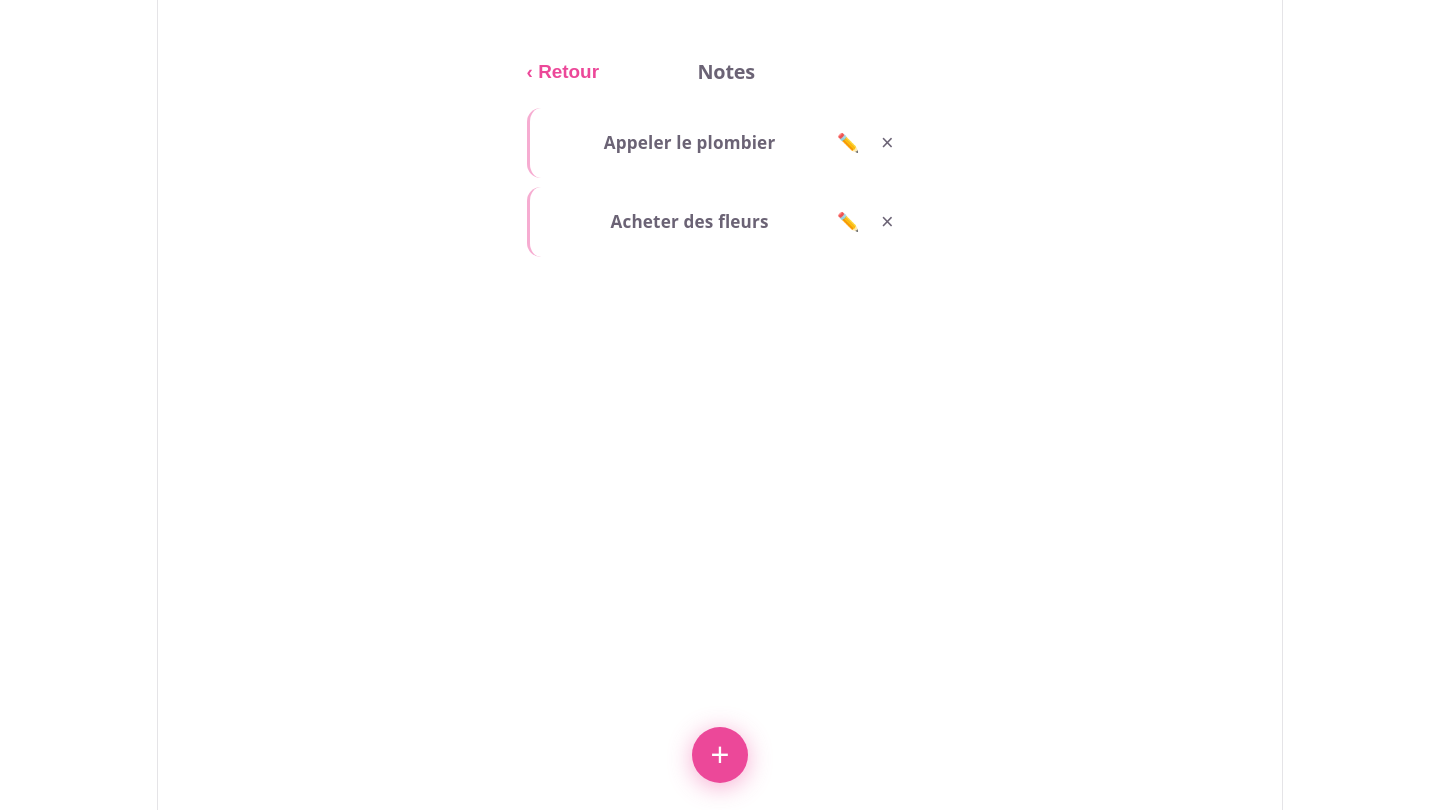
Test: NotesPage › clicking edit button shows a textarea with current content
This screenshot has width=1440, height=810.
Click the button named "éditer": click(848, 143) x1=832 y1=127 x2=865 y2=159
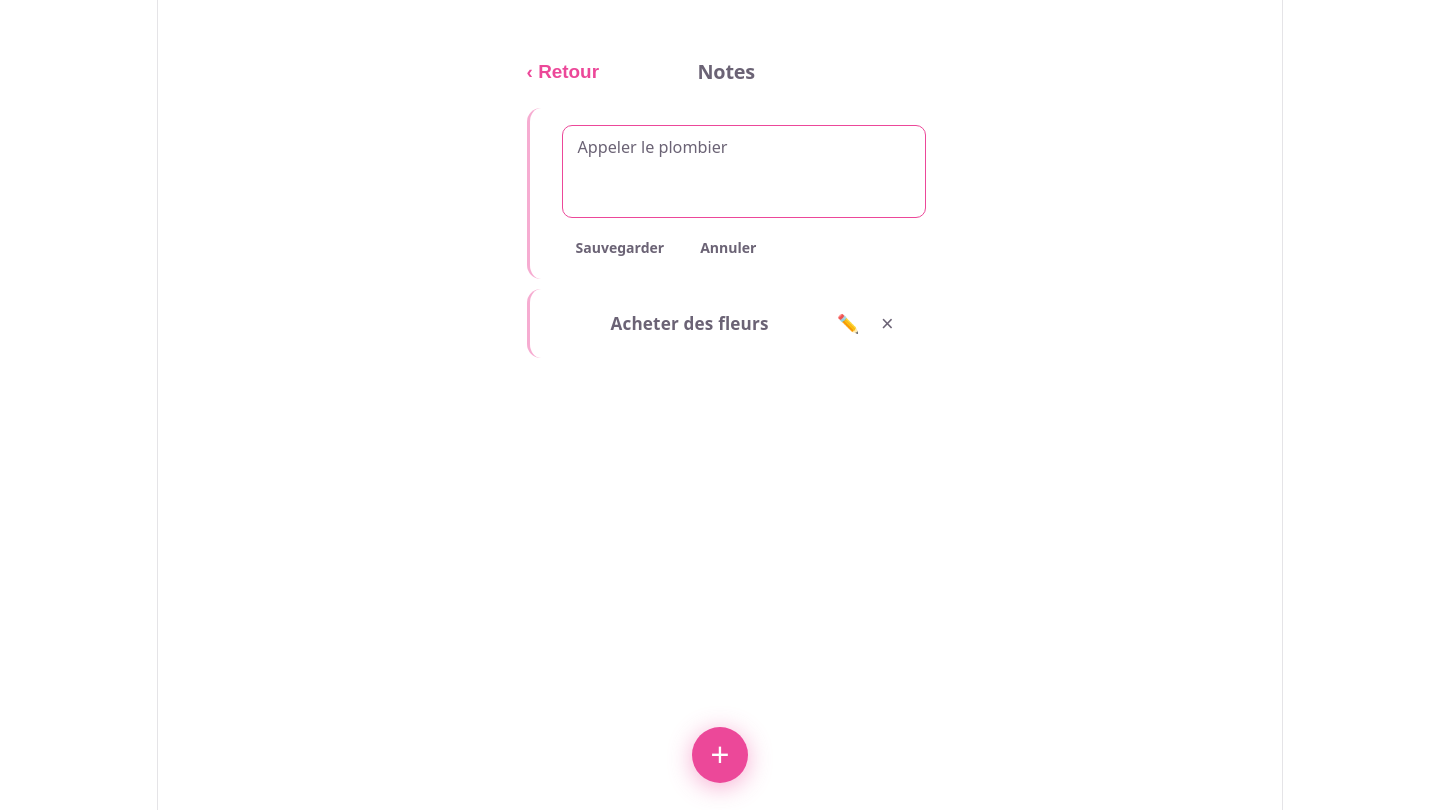
Check: the text box named "modifier" holds "Appeler le plombier", box x1=562 y1=125 x2=926 y2=218
